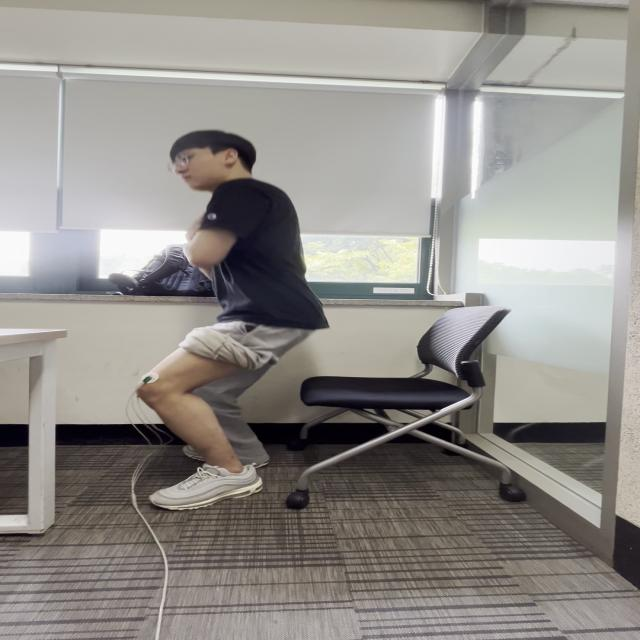stand: (115, 299, 321, 511), (190, 188, 318, 410)
